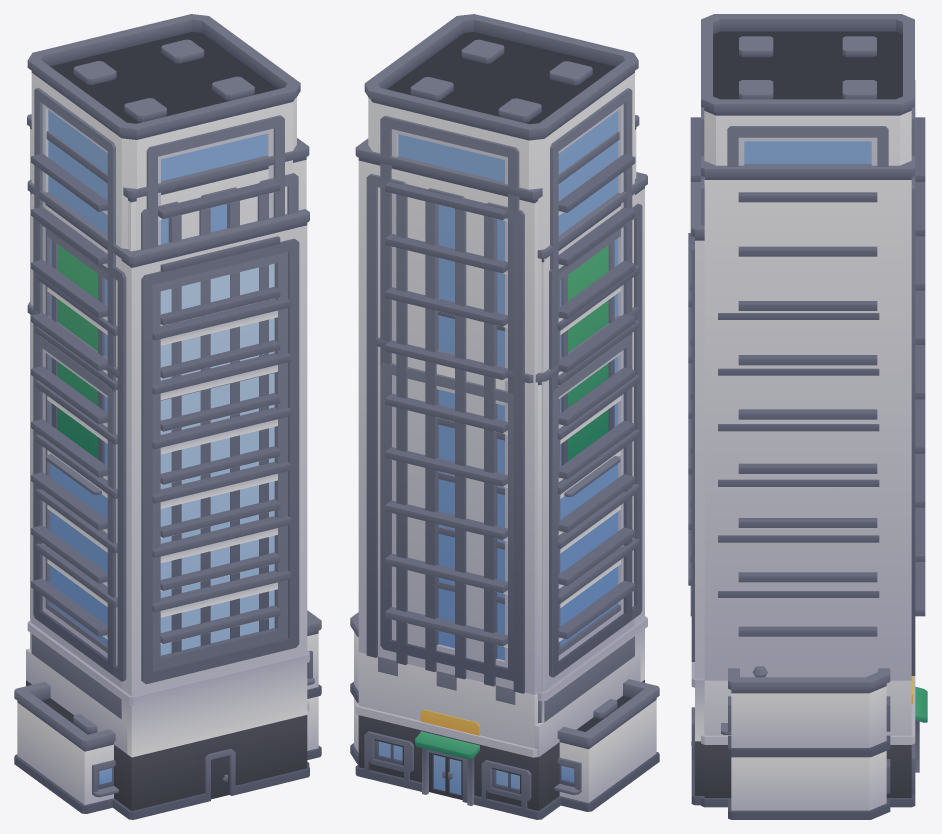
Rendered from city.glb.
3 views of the same model, side by side, from view 1: azimuth 30°, elevation 25°; view 2: azimuth 150°, elevation 25°; view 3: azimuth 270°, elevation 25° (orthographic). The views are drawn at different scales.
Visible parts, largest first — view 1: building-skyscraper-c, building-skyscraper-b, building-skyscraper-e, building-skyscraper-a, building-e; view 2: building-skyscraper-b, building-skyscraper-e, building-skyscraper-a, building-skyscraper-c, building-e; view 3: building-skyscraper-e, building-skyscraper-b, building-e, building-skyscraper-c, building-skyscraper-a.
Boxes of the visible parts, left/top/right/bottom form: building-skyscraper-c: left=27, top=180, right=309, bottom=819; building-skyscraper-b: left=26, top=14, right=300, bottom=807; building-skyscraper-e: left=27, top=114, right=309, bottom=766; building-skyscraper-a: left=27, top=301, right=279, bottom=815; building-e: left=14, top=610, right=321, bottom=813; building-skyscraper-b: left=364, top=14, right=640, bottom=812; building-skyscraper-e: left=355, top=115, right=639, bottom=818; building-skyscraper-a: left=368, top=306, right=638, bottom=819; building-skyscraper-c: left=415, top=172, right=647, bottom=808; building-e: left=350, top=612, right=659, bottom=811; building-skyscraper-e: left=701, top=80, right=915, bottom=807; building-skyscraper-b: left=690, top=14, right=925, bottom=795; building-e: left=721, top=666, right=890, bottom=819; building-skyscraper-c: left=688, top=182, right=927, bottom=805; building-skyscraper-a: left=690, top=351, right=925, bottom=630.
Size of the model in its own units: 1.64 by 4.48 by 1.39.
